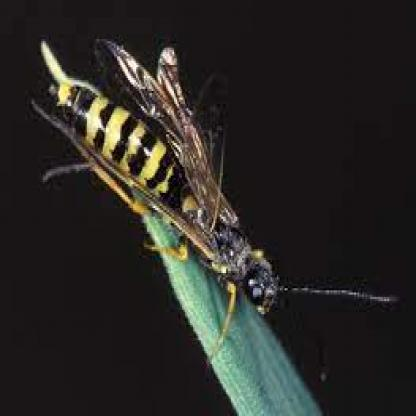sawfly: (27, 41, 402, 348)
